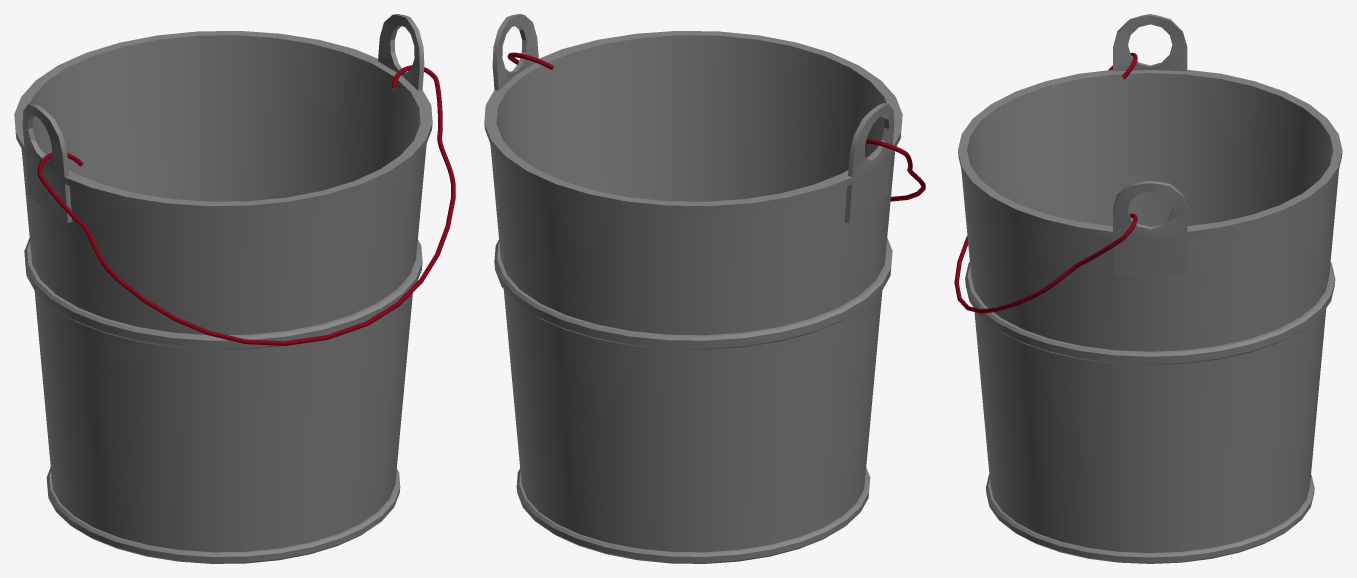
The model's file is bucket.fbx.
3 views of the same model, side by side, from view 1: azimuth 30°, elevation 25°; view 2: azimuth 150°, elevation 25°; view 3: azimuth 270°, elevation 25° (orthographic). The views are drawn at different scales.
Visible parts, largest first — view 1: Cylinder; view 2: Cylinder; view 3: Cylinder.
Part boxes in pixels (bbox=[...]): Cylinder: bbox=[14, 14, 455, 563]; Cylinder: bbox=[484, 14, 925, 563]; Cylinder: bbox=[954, 14, 1342, 563].
Bounding box in the file's own units: 32.33 × 33.15 × 29.33.
